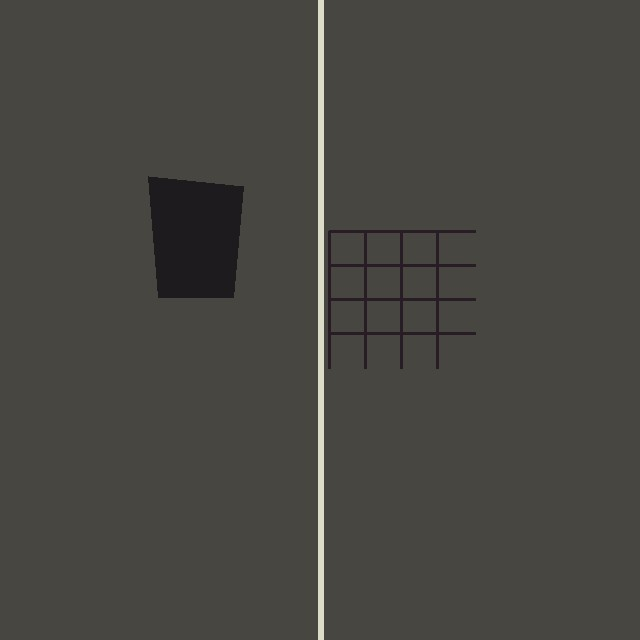alligator_crack: (329, 231, 475, 368)
damaged_surface: (148, 176, 243, 297)
